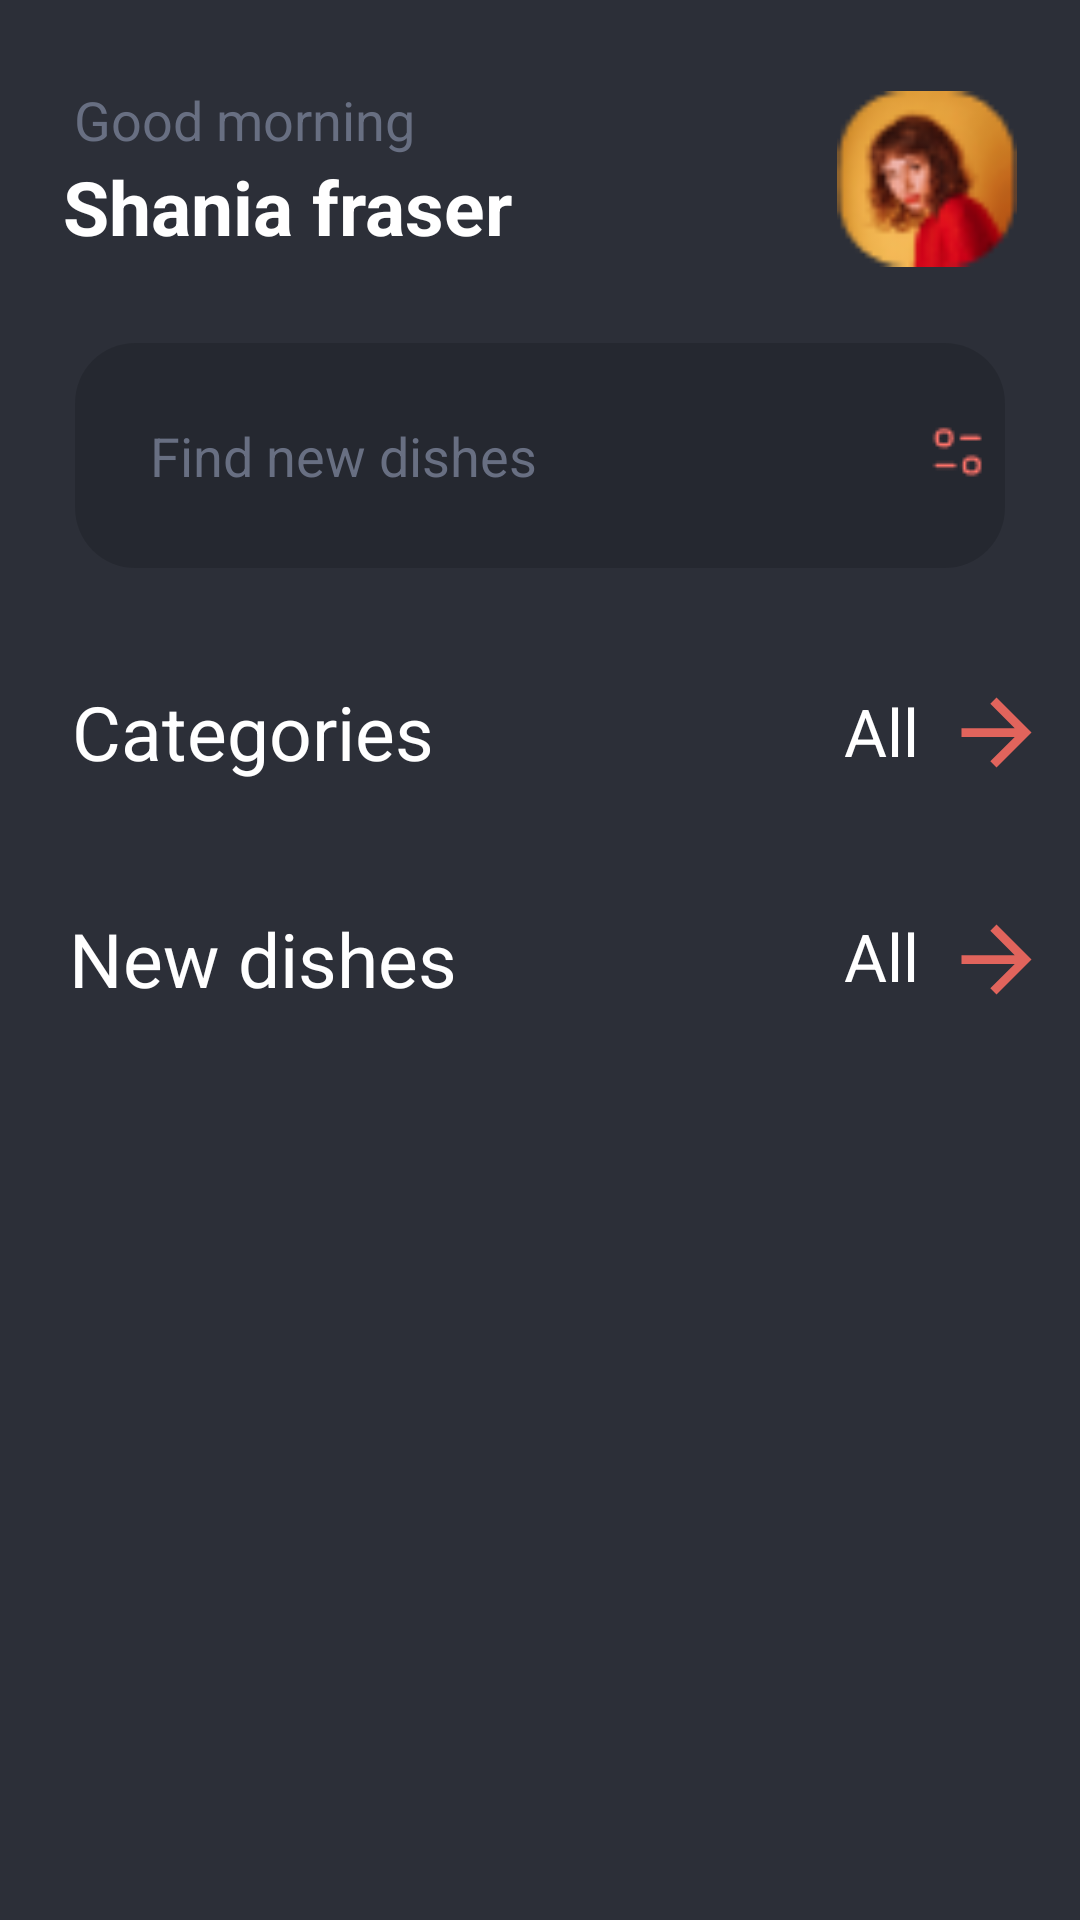

Named icons in this screenshot (1080x1920) and their centers, (x,y):
girl: (927,179)
